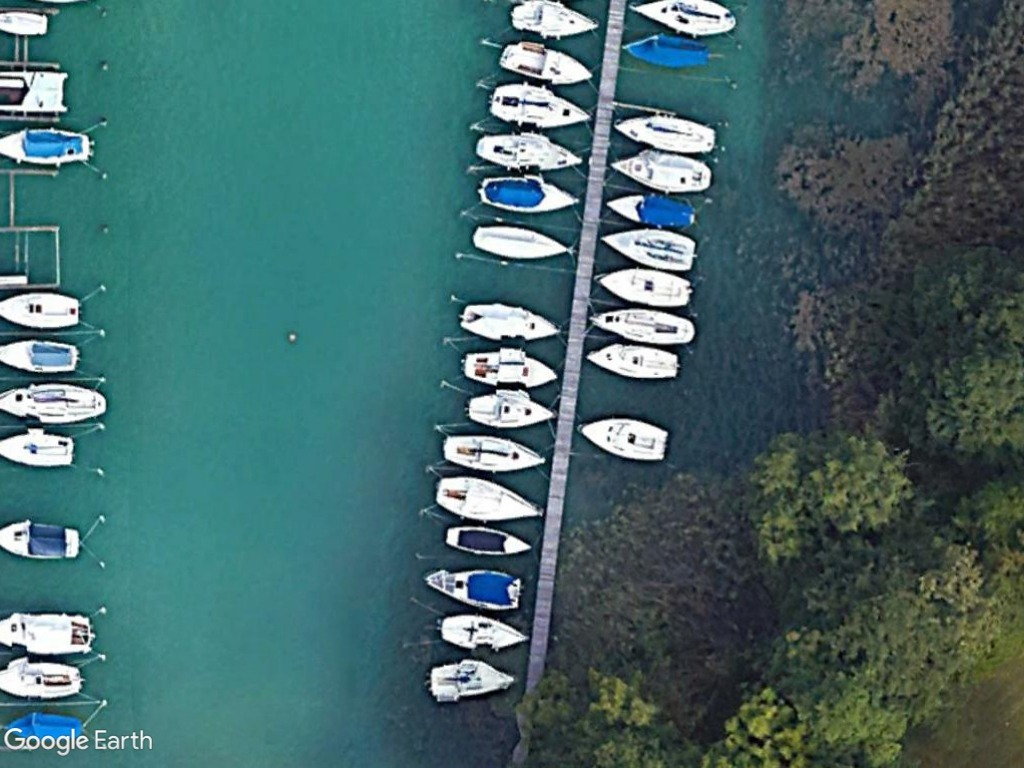boat: (432, 472, 545, 528), (571, 412, 671, 465), (455, 298, 563, 347), (485, 81, 592, 130), (613, 109, 721, 157), (473, 129, 585, 175), (437, 428, 551, 473), (588, 304, 697, 350), (599, 225, 701, 274), (607, 150, 716, 195), (459, 346, 567, 391), (493, 39, 594, 87), (0, 380, 110, 424), (593, 266, 698, 312), (421, 566, 524, 612), (582, 340, 682, 387), (471, 173, 581, 215), (469, 221, 571, 264), (623, 0, 740, 36), (435, 607, 532, 650), (423, 656, 512, 702), (0, 126, 95, 168), (504, 0, 602, 40), (0, 422, 78, 472), (621, 30, 711, 72), (461, 391, 557, 430), (0, 516, 85, 560), (440, 521, 534, 560), (601, 192, 696, 228), (0, 288, 83, 329), (0, 657, 85, 697), (0, 336, 83, 375)
